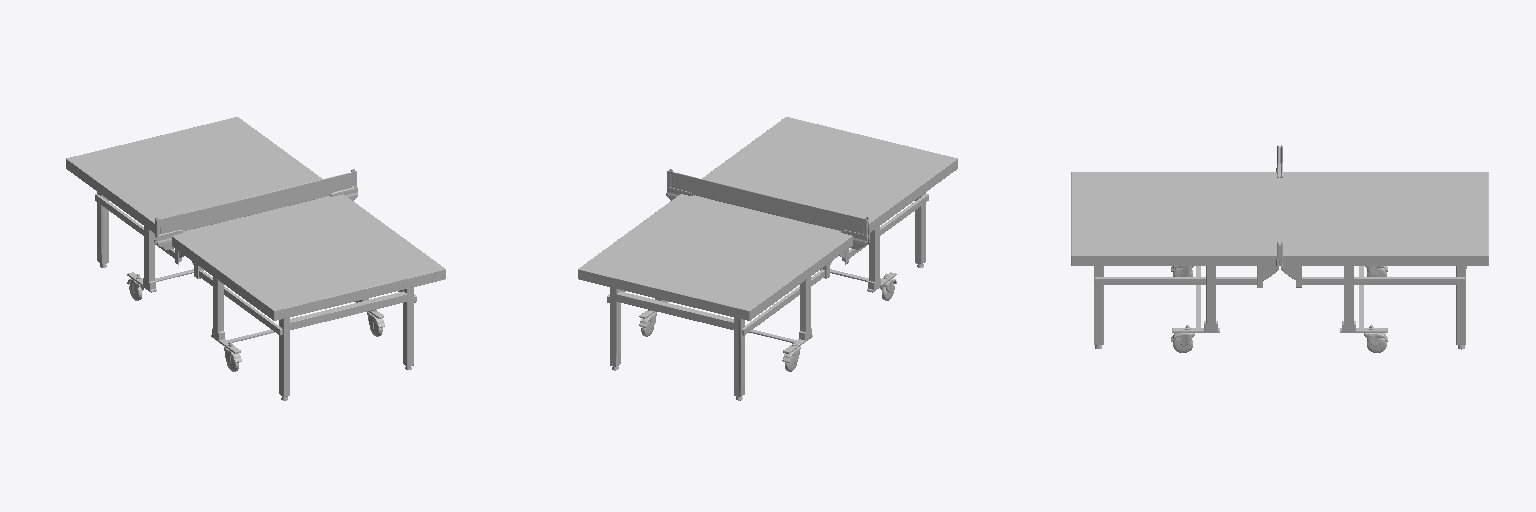
Rendered from table new.obj.
3 renders of one model, left to right at view 1: azimuth 30°, elevation 25°; view 2: azimuth 150°, elevation 25°; view 3: azimuth 270°, elevation 25°, orthographic.
Parts seen in each view (by area): view 1: 10520_pingpongtable_L2; view 2: 10520_pingpongtable_L2; view 3: 10520_pingpongtable_L2.
Part boxes in pixels (bbox=[...]): 10520_pingpongtable_L2: bbox=[66, 117, 445, 400]; 10520_pingpongtable_L2: bbox=[578, 117, 957, 400]; 10520_pingpongtable_L2: bbox=[1071, 145, 1488, 352].
Bounding box in the file's own units: 1.52 × 0.9 × 2.74.